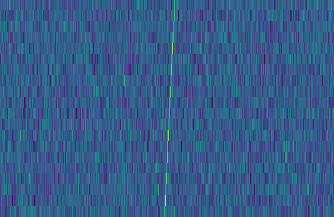signal: (160, 0, 179, 217)
